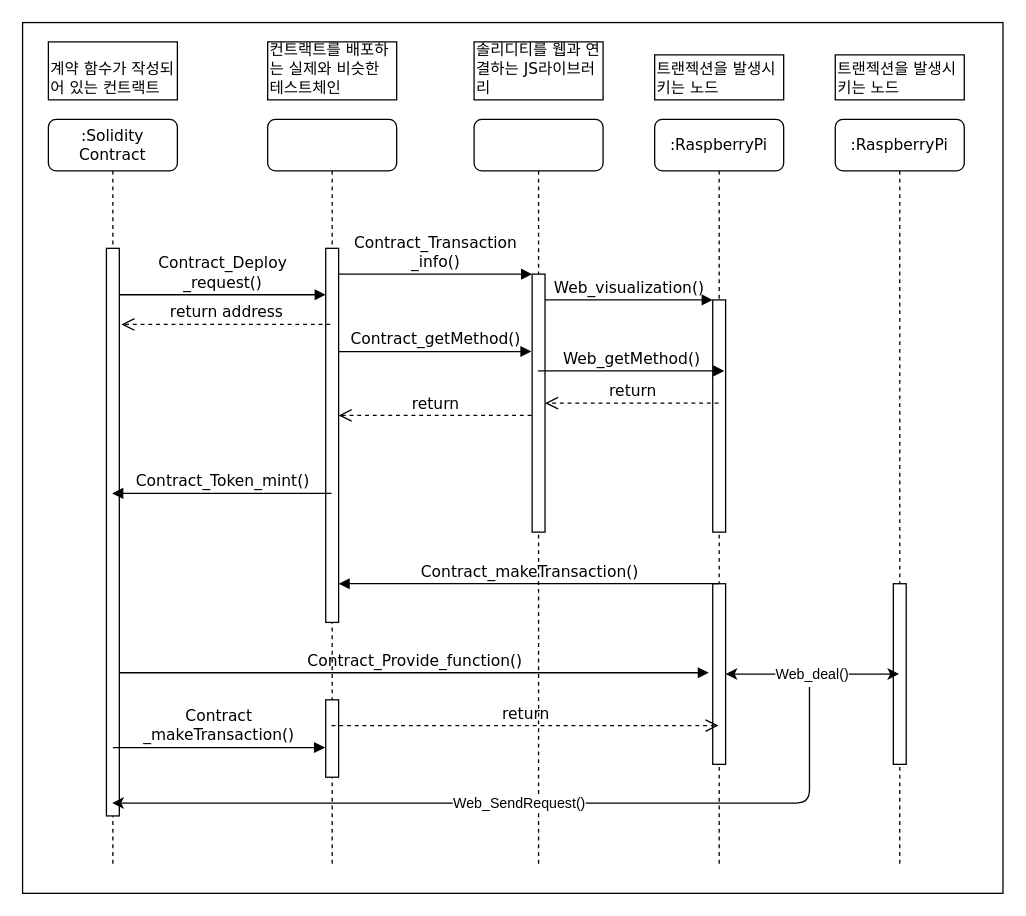
Some shapes in this 1026 by 916 pixel diagram are drawn without their labels. The shapes that lost their labels are listed below. From the top down, each one's box as (x1, y1, x2, y2) in pixels, then its label:
(266, 118, 397, 868): :Ropsten testnet
(473, 118, 603, 868): :Web3.js
